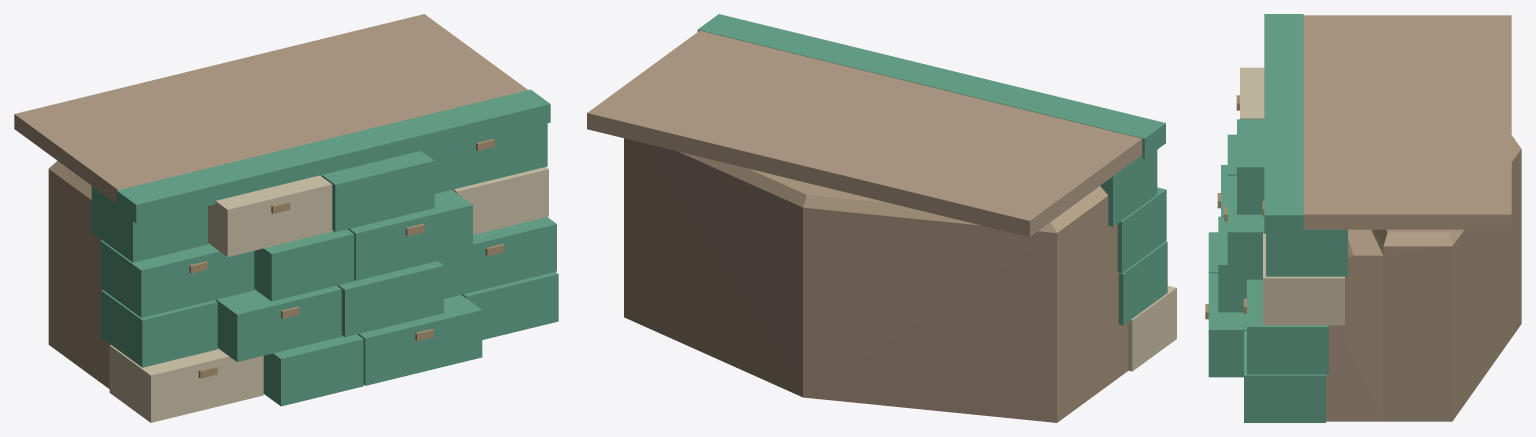
The model's file is terrace-corner-mint.glb.
The picture shows the model from 3 angles, left to right: view 1: azimuth 30°, elevation 25°; view 2: azimuth 150°, elevation 25°; view 3: azimuth 270°, elevation 25°; orthographic projection. The views are drawn at different scales.
Parts seen in each view (by area): view 1: terrace-corner-mint; view 2: terrace-corner-mint; view 3: terrace-corner-mint.
Boxes of the visible parts, x1,y1,x2,y2 form: terrace-corner-mint: (14, 14, 558, 422); terrace-corner-mint: (587, 14, 1176, 422); terrace-corner-mint: (1205, 14, 1521, 422).
Size of the model in its own units: 6.04 by 2.93 by 4.01.
